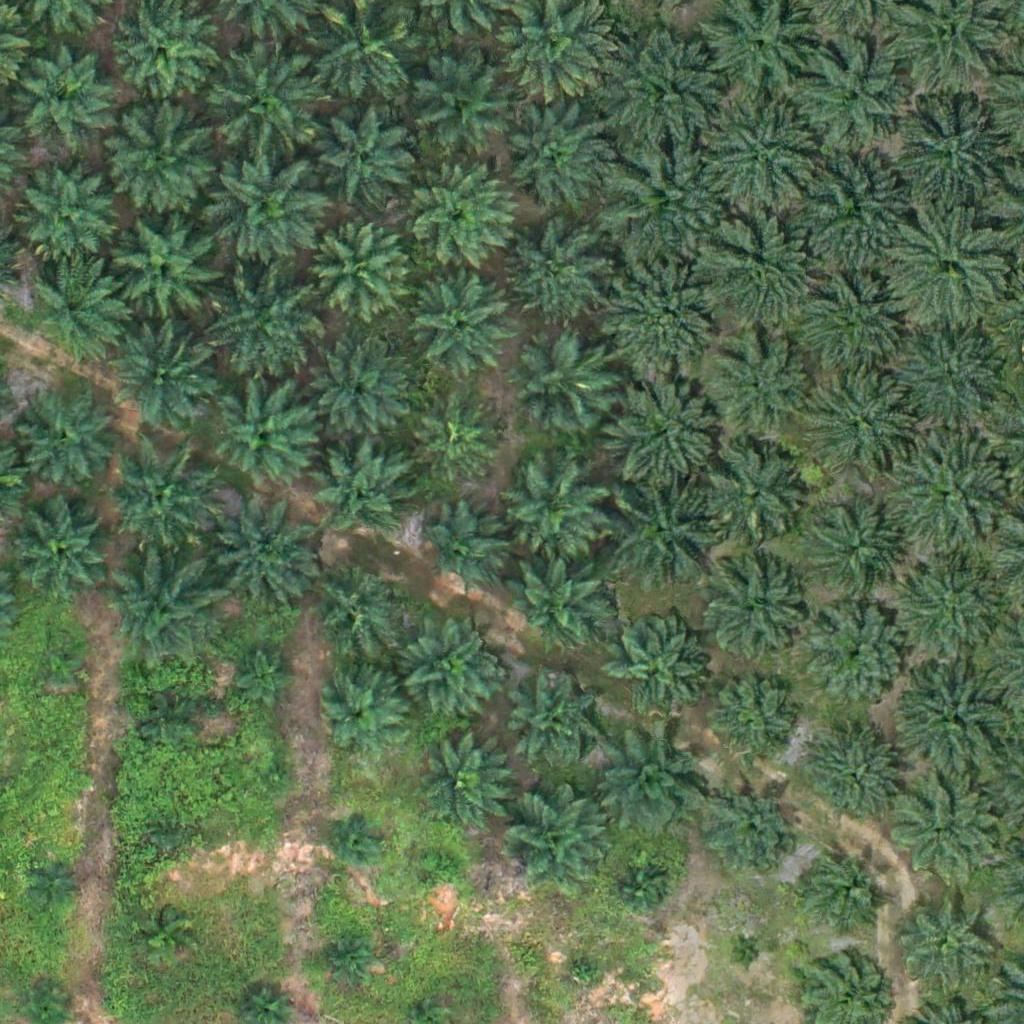Kelapa_Sawit: (205, 149, 330, 275), (490, 90, 615, 216), (607, 31, 732, 157), (607, 142, 732, 268), (891, 102, 1016, 228), (604, 251, 729, 377), (695, 216, 820, 342), (888, 655, 1013, 781), (885, 548, 1010, 674), (885, 426, 1010, 552), (887, 206, 1012, 332), (702, 94, 827, 219), (599, 368, 724, 493), (888, 330, 1001, 444), (106, 104, 219, 217), (208, 500, 321, 613), (206, 270, 319, 383), (799, 37, 912, 150), (608, 479, 721, 592), (599, 728, 712, 841), (208, 46, 320, 160), (405, 164, 517, 278), (107, 444, 219, 557), (103, 552, 215, 665), (888, 778, 1000, 891), (16, 54, 116, 155), (506, 552, 606, 653), (401, 621, 501, 722), (312, 345, 412, 446), (312, 439, 412, 540), (305, 558, 405, 659), (213, 385, 313, 486), (117, 221, 217, 322), (110, 318, 210, 419), (11, 501, 111, 602), (18, 389, 118, 490), (27, 254, 127, 355), (14, 166, 114, 267), (607, 619, 707, 720), (704, 567, 804, 668), (702, 446, 802, 547), (707, 334, 807, 435), (815, 376, 915, 477), (808, 605, 908, 706), (804, 730, 904, 831), (890, 884, 990, 985), (793, 839, 893, 940), (506, 793, 606, 894), (319, 102, 419, 202), (409, 56, 509, 156), (506, 228, 606, 328), (514, 336, 614, 436), (502, 462, 602, 562), (413, 278, 513, 378), (310, 223, 410, 323), (796, 269, 896, 369), (409, 733, 509, 833), (806, 156, 905, 256), (421, 506, 509, 594), (414, 398, 502, 486), (508, 676, 596, 764), (811, 510, 899, 598), (319, 673, 406, 762), (708, 784, 795, 873), (707, 677, 794, 765), (235, 641, 297, 704), (139, 910, 189, 961), (614, 861, 664, 912), (32, 856, 82, 907), (35, 640, 85, 690), (146, 699, 196, 749), (320, 935, 370, 985), (333, 812, 383, 862), (423, 847, 461, 885), (566, 954, 604, 992), (728, 935, 766, 973), (152, 814, 189, 852), (257, 759, 294, 797)
